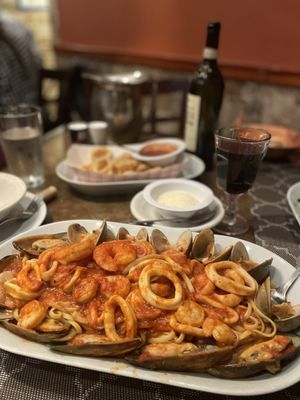pizza: (214, 127, 272, 196)
sushi: (140, 179, 219, 223), (0, 172, 27, 227), (286, 180, 300, 235)
